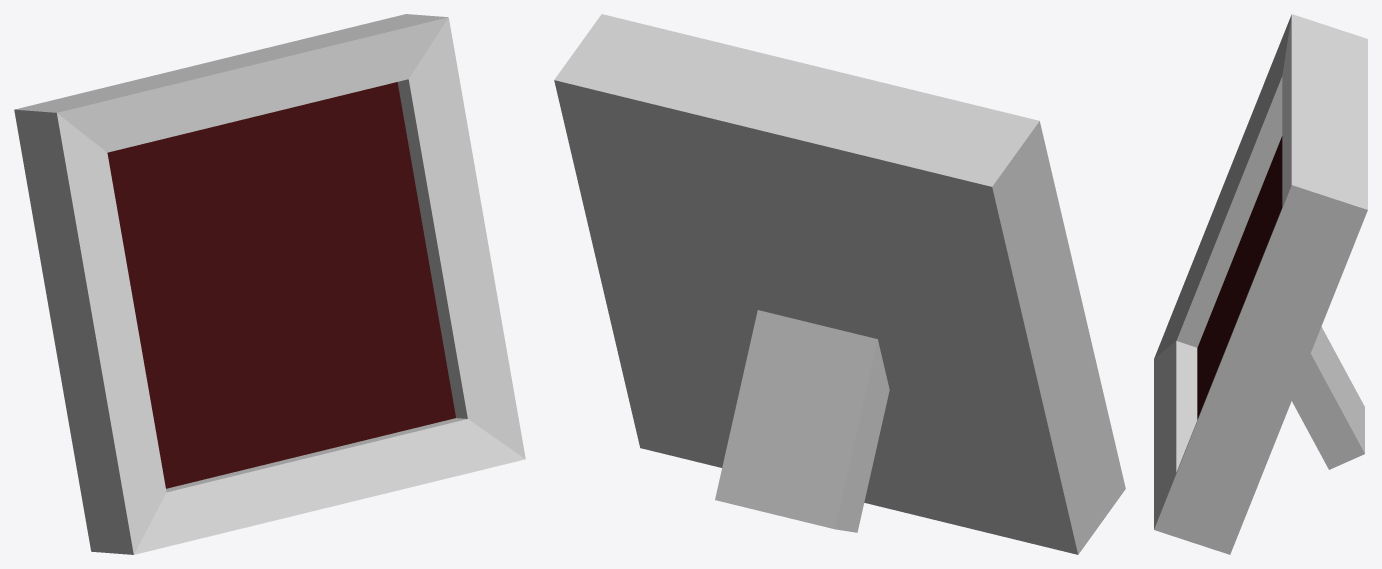
The model's file is pic.fbx.
3 views of the same model, side by side, from view 1: azimuth 30°, elevation 25°; view 2: azimuth 150°, elevation 25°; view 3: azimuth 270°, elevation 25° (orthographic). The views are drawn at different scales.
Visible parts, largest first — view 1: 立方体; view 2: 立方体; view 3: 立方体.
Part boxes in pixels (x1,y1,x2,y2): 立方体: [14, 14, 525, 554]; 立方体: [554, 14, 1125, 554]; 立方体: [1154, 14, 1367, 554].
Bounding box in the file's own units: 505 × 509 × 267.
